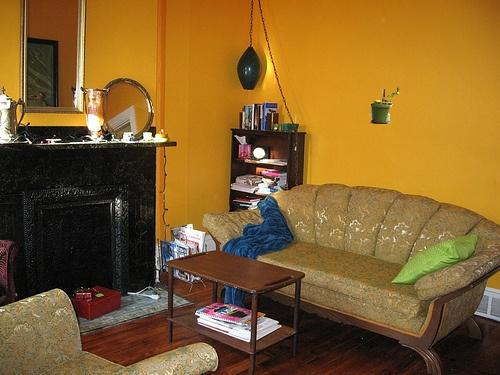tampered: (370, 88, 399, 124)
